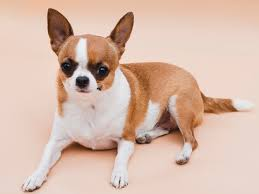chihuahua: (18, 2, 237, 190)
